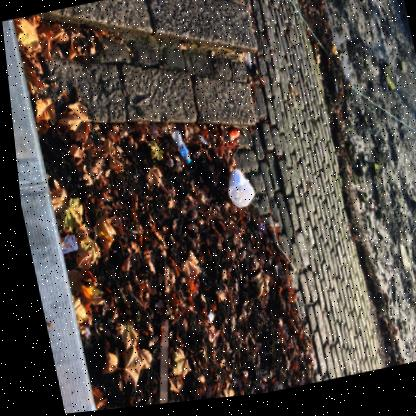Metal: (220, 132, 235, 147)
Paper: (55, 236, 72, 255)
Plastic: (222, 174, 249, 212), (167, 133, 186, 167), (75, 327, 82, 349)
